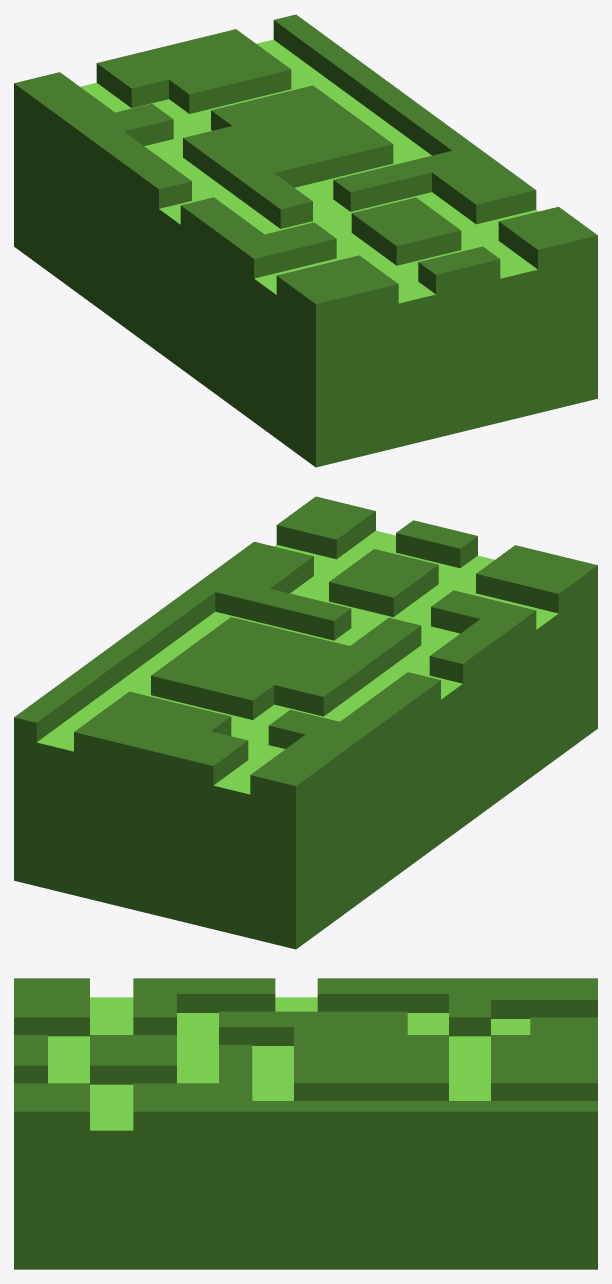
Rendered from iki çıkışlı 2.fbx.
The picture shows the model from 3 angles, top to bottom: view 1: azimuth 30°, elevation 25°; view 2: azimuth 150°, elevation 25°; view 3: azimuth 270°, elevation 25°; orthographic projection. The views are drawn at different scales.
Visible parts, largest first — view 1: Cube.001; view 2: Cube.001; view 3: Cube.001.
Boxes of the visible parts, box(x1,y1,x2,y2) form: Cube.001: box(14, 14, 597, 467); Cube.001: box(14, 496, 597, 949); Cube.001: box(14, 978, 597, 1269).
Bounding box in the file's own units: 3016 × 1668 × 5590.
